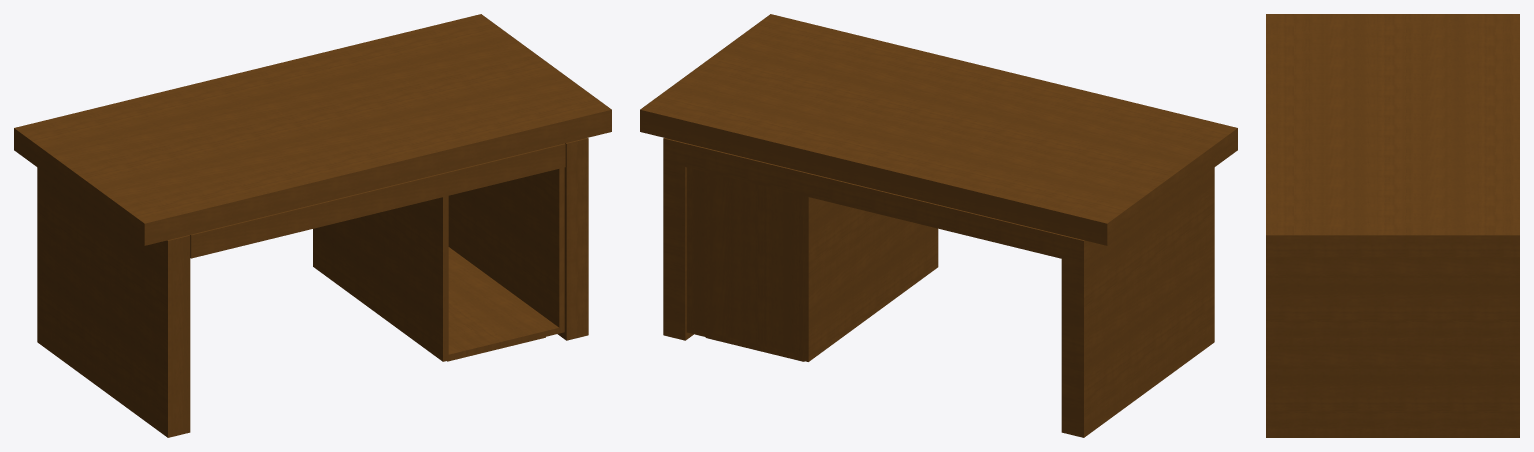
The model's file is Desk.glb.
The picture shows the model from 3 angles, left to right: view 1: azimuth 30°, elevation 25°; view 2: azimuth 150°, elevation 25°; view 3: azimuth 270°, elevation 25°; orthographic projection. The views are drawn at different scales.
Visible parts, largest first — view 1: Cube; view 2: Cube; view 3: Cube.
Boxes of the visible parts, left/top/right/bottom form: Cube: left=14, top=14, right=611, bottom=437; Cube: left=640, top=14, right=1237, bottom=437; Cube: left=1266, top=14, right=1519, bottom=437.
Size of the model in its own units: 8.44 by 3.8 by 4.09.
1 material, 1 textured.
